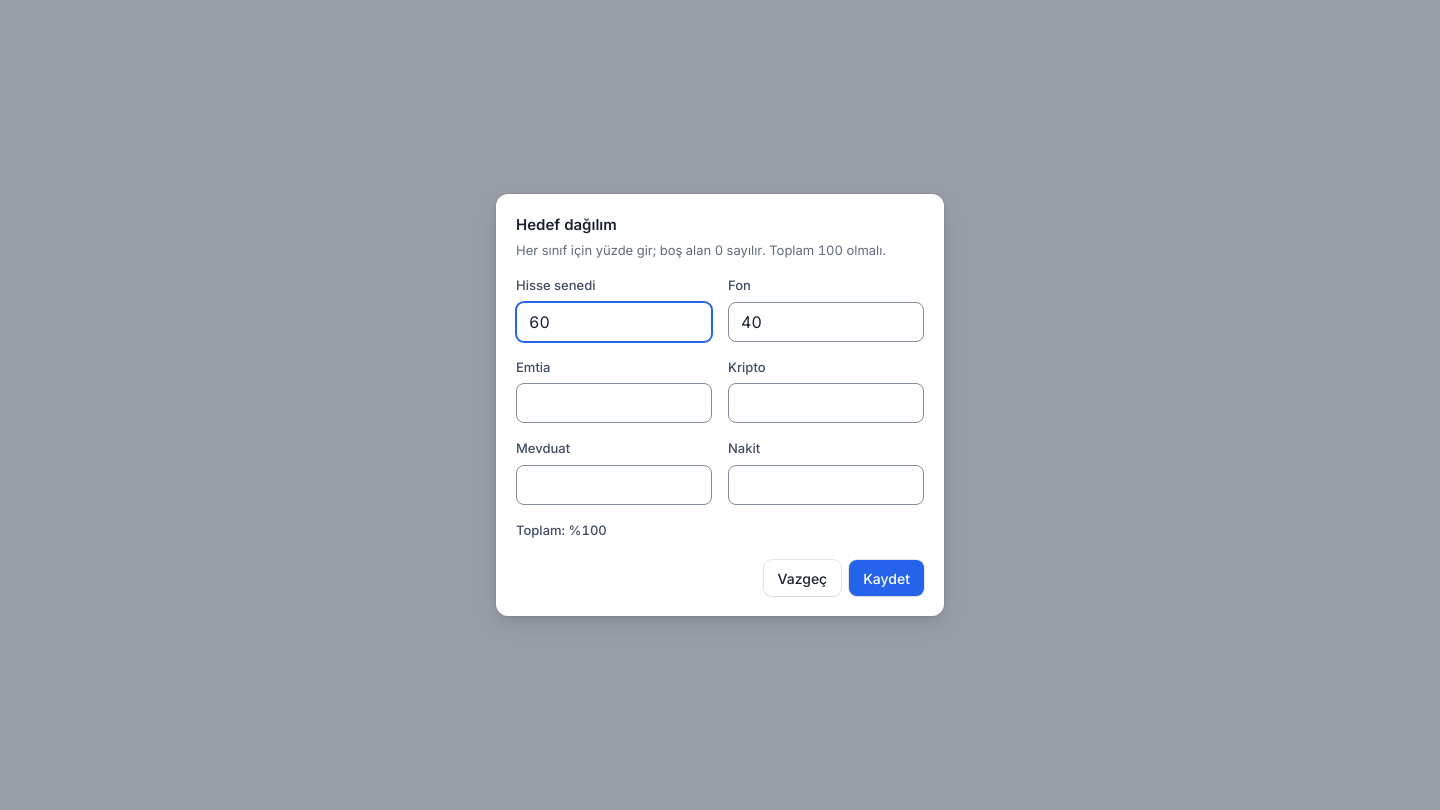
it: keeps the dialog open with the error when the save fails
This screenshot has width=1440, height=810.
Click the button "Kaydet" at x=887, y=578, box x1=849 y1=560 x2=924 y2=596
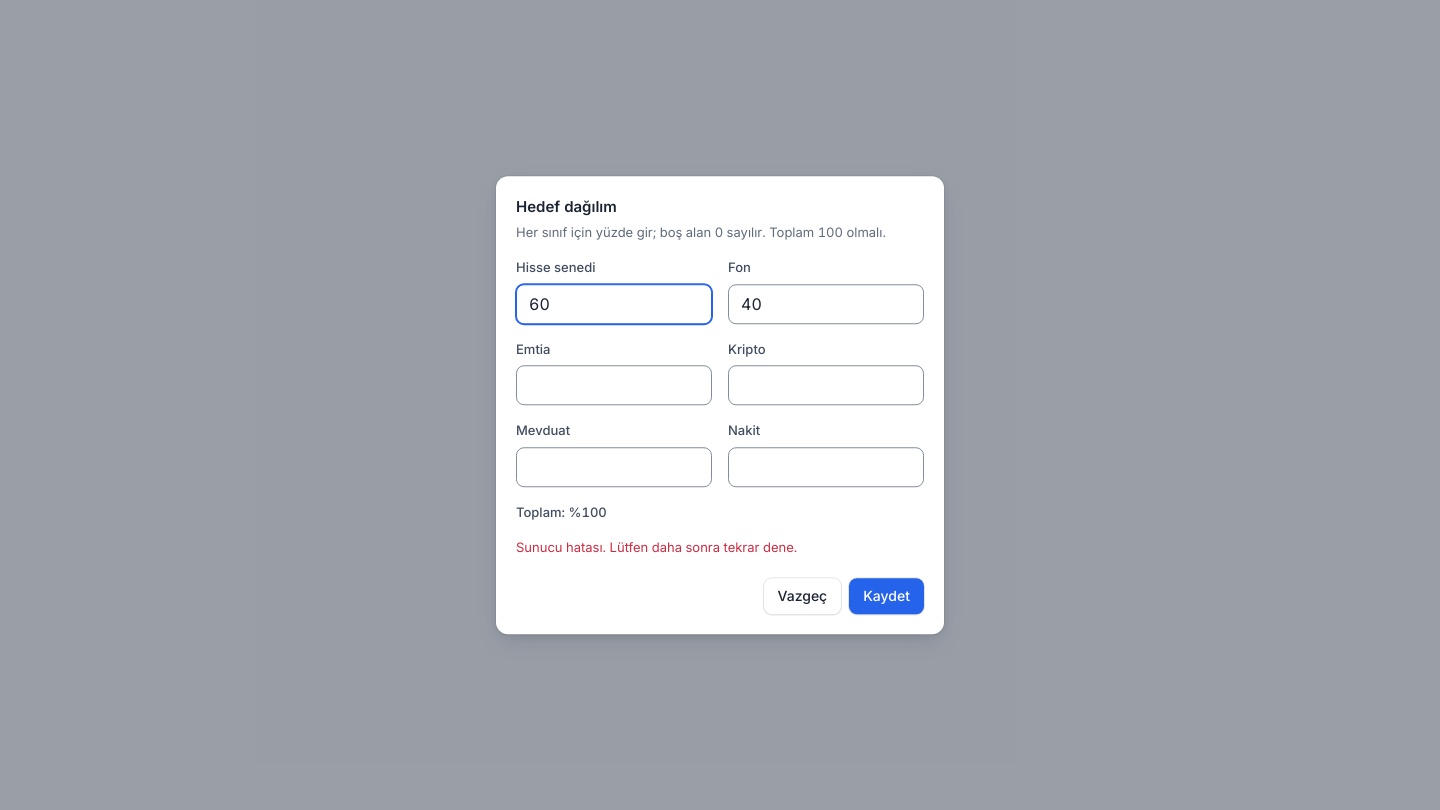
Now the message "Sunucu hatası. Lütfen daha sonra tekrar dene." is shown, box x1=516 y1=539 x2=797 y2=555
